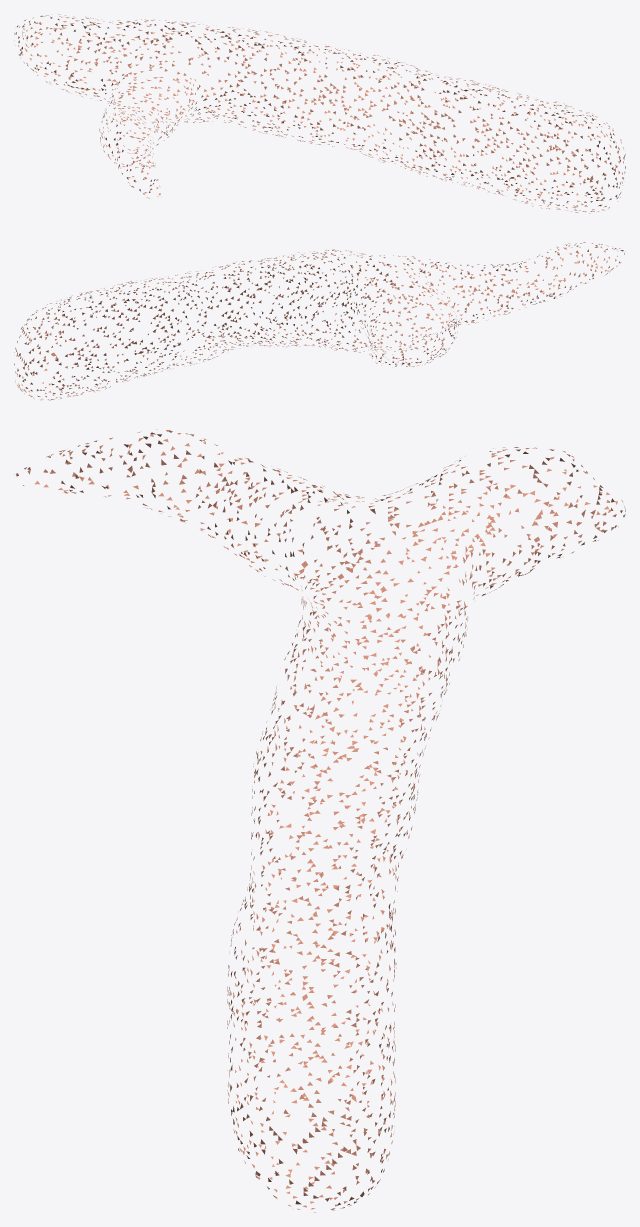
Rendered from morph_003.glb.
The picture shows the model from 3 angles, top to bottom: view 1: azimuth 30°, elevation 25°; view 2: azimuth 150°, elevation 25°; view 3: azimuth 270°, elevation 25°; orthographic projection. The views are drawn at different scales.
Size of the model in its own units: 123 by 53.63 by 75.12.
